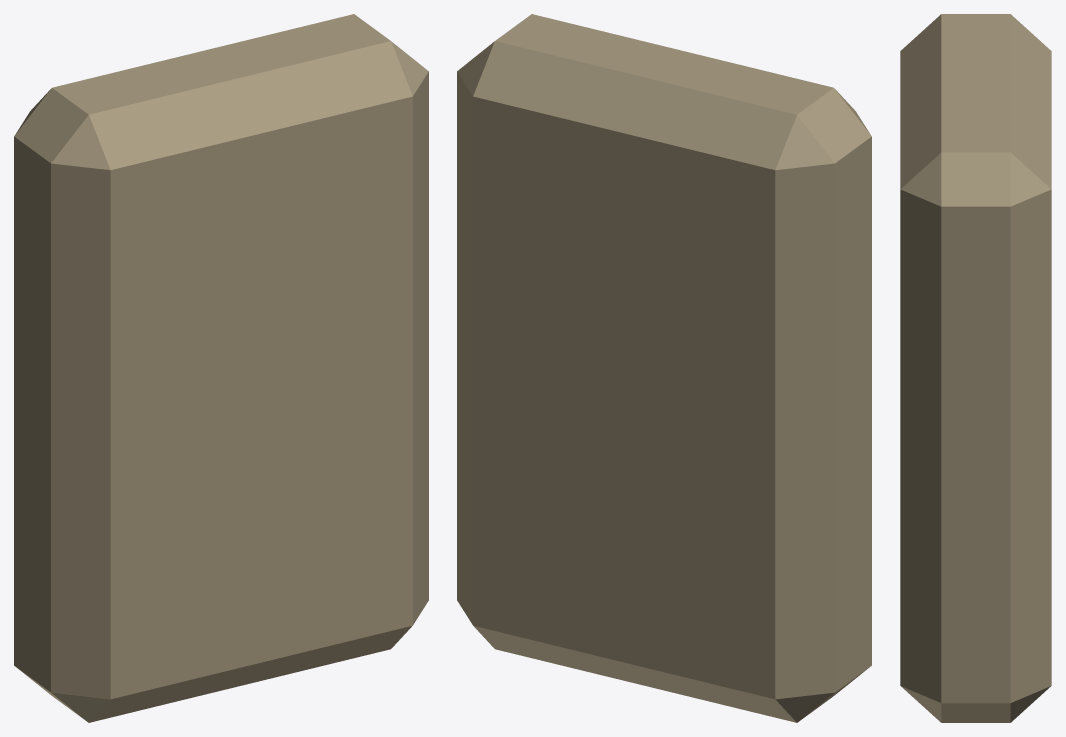
File: shin.glb
3 views of the same model, side by side, from view 1: azimuth 30°, elevation 25°; view 2: azimuth 150°, elevation 25°; view 3: azimuth 270°, elevation 25° (orthographic). The views are drawn at different scales.
Visible parts, largest first — view 1: shin; view 2: shin; view 3: shin.
Boxes of the visible parts, box(x1,y1,x2,y2) form: shin: box(14, 14, 428, 722); shin: box(457, 14, 871, 722); shin: box(900, 14, 1051, 722).
Size of the model in its own units: 0.65 by 1 by 0.24.
